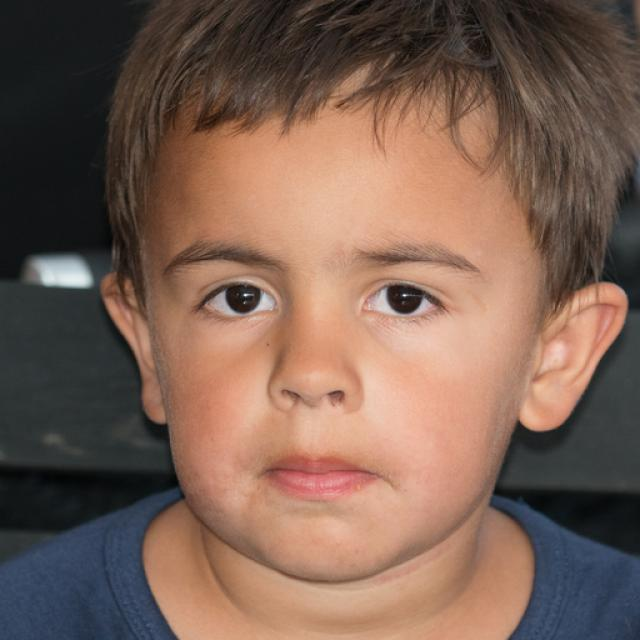neutral: (152, 104, 532, 584)
